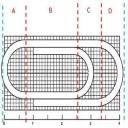Metal: (0, 34, 125, 115)
